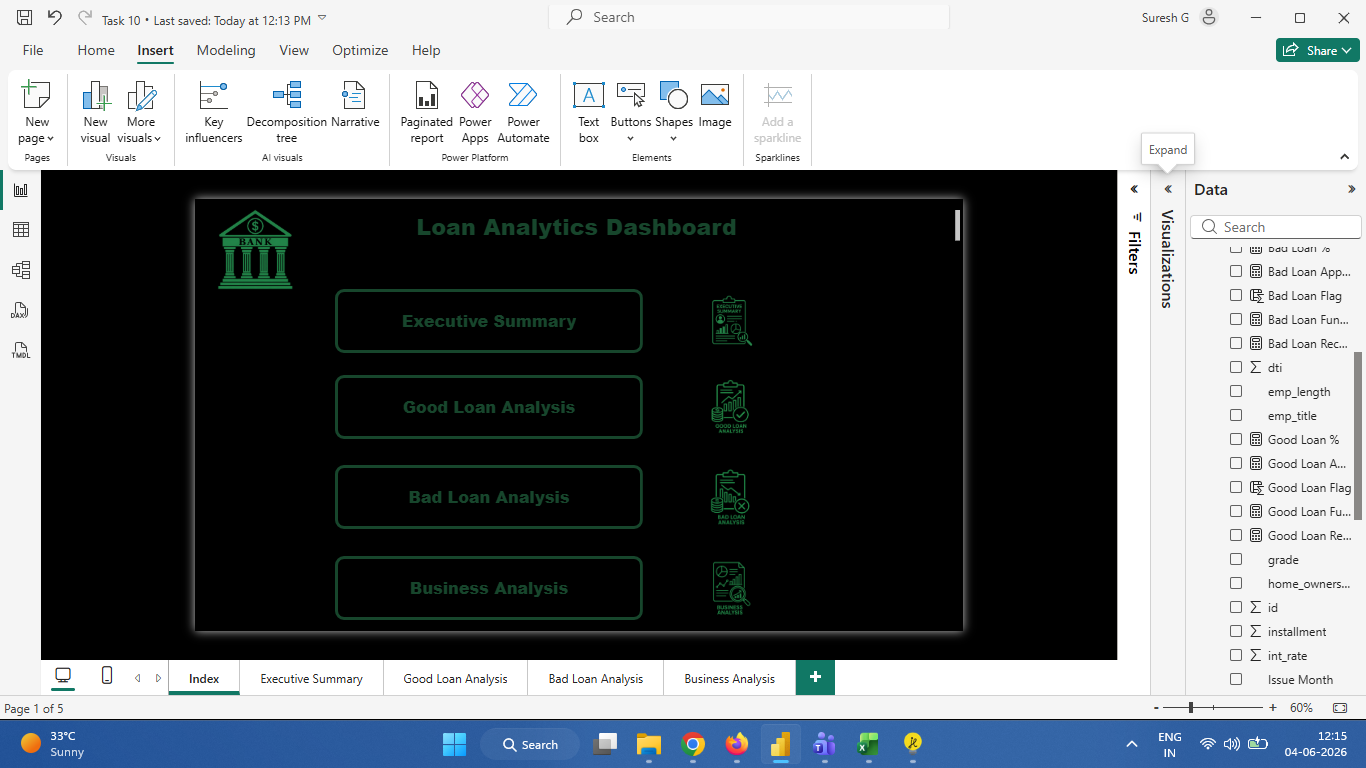

The page's visual inventory and layout, read from the dashboard file:
{"tool":"powerbi","page":{"name":"Index","canvas":[1280,720],"ordinal":0},"visuals":[{"type":"textbox","box":[0,13.3,1280,61.7],"z":0},{"type":"actionButton","box":[233.3,150,513.3,106.7],"z":1},{"type":"actionButton","box":[233.3,293.3,513.3,106.7],"z":2},{"type":"actionButton","box":[233.3,443.3,513.3,106.7],"z":3},{"type":"actionButton","box":[233.3,595,513.3,106.7],"z":4},{"type":"image","box":[0,0,201.7,175],"z":5},{"type":"image","box":[845,150,96.7,106.7],"z":6},{"type":"image","box":[820,293.3,145,106.7],"z":7},{"type":"image","box":[820,443.3,145,106.7],"z":8},{"type":"image","box":[786.7,595,211.7,106.7],"z":9}]}

Visuals, with their boxes on the page's 1280x720 design canvas (x1, y1, x2, y2). These are canvas units, not pixel positions in the 1366x768 screenshot, which may show the page scaled, cropped or inside an application window:
textbox: [left=0, top=13, right=1280, bottom=75]
actionButton: [left=233, top=150, right=747, bottom=257]
actionButton: [left=233, top=293, right=747, bottom=400]
actionButton: [left=233, top=443, right=747, bottom=550]
actionButton: [left=233, top=595, right=747, bottom=702]
image: [left=0, top=0, right=202, bottom=175]
image: [left=845, top=150, right=942, bottom=257]
image: [left=820, top=293, right=965, bottom=400]
image: [left=820, top=443, right=965, bottom=550]
image: [left=787, top=595, right=998, bottom=702]
